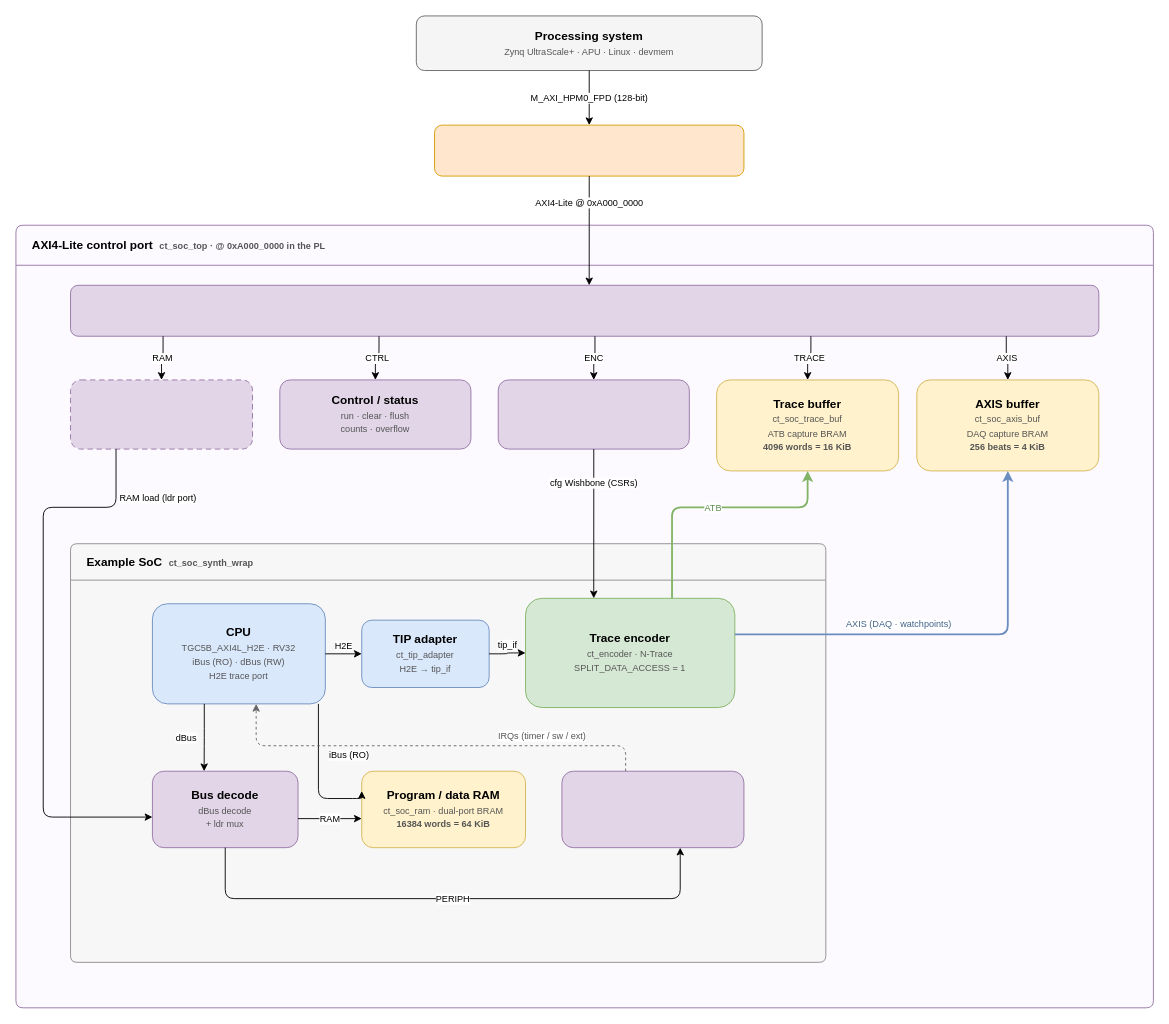
Some shapes in this 1169 by 1024 pixel diagram are drawn without their labels. The shapes that lost their labels are listed below. From the top down, each one's box as (x1, y1, x2, y2) in pixels, then its label:
(434, 124, 744, 176): AXI bridge width + protocol converter · 128 → 32
(70, 284, 1099, 336): Register + region decode AXI4-Lite slave · CTRL | ENC | RAM | TRACE | AXIS
(70, 379, 253, 449): RAM window program load while the core is held
(497, 379, 689, 449): CSR bridge ct_axil_to_wb AXI-Lite → Wishbone
(561, 770, 744, 848): Timer + interrupt ctrl ct_soc_periph CLINT + INTC
